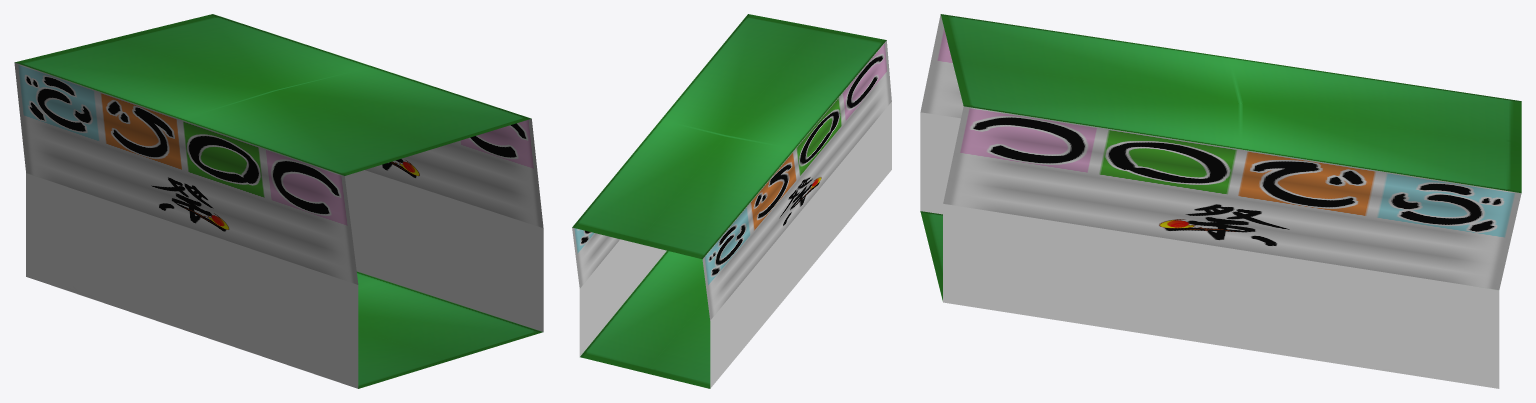
3 views of the same model, side by side, from view 1: azimuth 30°, elevation 25°; view 2: azimuth 150°, elevation 25°; view 3: azimuth 270°, elevation 25° (orthographic). The views are drawn at different scales.
Visible parts, largest first — view 1: polySurface104; view 2: polySurface104; view 3: polySurface104.
Boxes of the visible parts, x1,y1,x2,y2 form: polySurface104: [14, 14, 543, 388]; polySurface104: [572, 14, 891, 388]; polySurface104: [920, 14, 1521, 388].
Size of the model in its own units: 2.27 by 2.98 by 5.52.
1 material, 1 textured.
